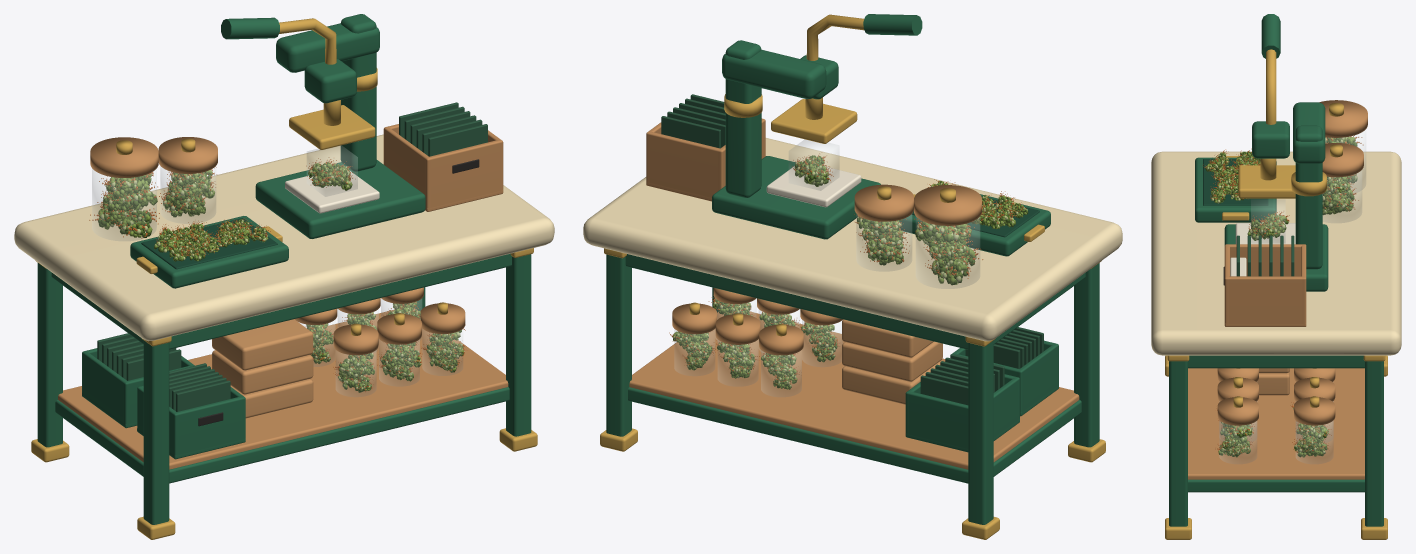
Rendered from pack_bench_tier2.glb.
3 renders of one model, left to right at view 1: azimuth 30°, elevation 25°; view 2: azimuth 150°, elevation 25°; view 3: azimuth 270°, elevation 25°, orthographic. The views are drawn at different scales.
Visible parts, largest first — view 1: Top, Shelf, ShelfRail, PressBase, Leg-1-1, ApronF, Leg1-1, Leg-11, JarA, TopCrateWall0, LowBox2, Tray (+29 smaller); view 2: Top, Shelf, ShelfRail, PressBase, Leg-11, ApronB, Leg11, Leg-1-1, PressColumn, JarA, TopCrateWall1, PressArm (+26 smaller); view 3: Top, Shelf, TopCrateWall3, Leg1-1, Leg11, PressColumn, ShelfRail, ApronE, JarB, PressPlate, Tray, TopCrateWall2 (+28 smaller).
Part boxes in pixels (box(x1,y1,x2,y2)): Top: box(14, 134, 554, 341); Shelf: box(58, 308, 508, 469); ShelfRail: box(55, 387, 509, 483); PressBase: box(255, 160, 425, 238); Leg-1-1: box(143, 340, 169, 524); ApronF: box(169, 253, 511, 349); Leg1-1: box(506, 254, 531, 436); Leg-11: box(37, 263, 62, 447); JarA: box(92, 169, 156, 240); TopCrateWall0: box(425, 139, 503, 209); LowBox2: box(212, 319, 313, 370); Tray: box(130, 216, 288, 288); Top: box(583, 138, 1122, 341); Shelf: box(629, 311, 1079, 469); ShelfRail: box(628, 387, 1081, 483); PressBase: box(712, 156, 880, 239); Leg-11: box(968, 340, 993, 524); ApronB: box(625, 254, 968, 349); Leg11: box(606, 254, 631, 436); Leg-1-1: box(1074, 263, 1099, 447); PressColumn: box(725, 40, 761, 197); JarA: box(916, 217, 979, 288); TopCrateWall1: box(646, 131, 724, 197); PressArm: box(722, 50, 826, 98); Top: box(1151, 151, 1401, 355); Shelf: box(1188, 368, 1364, 479); TopCrateWall3: box(1224, 276, 1306, 323); Leg1-1: box(1169, 361, 1187, 526); Leg11: box(1365, 361, 1383, 526); PressColumn: box(1295, 125, 1322, 269); ShelfRail: box(1188, 479, 1364, 492); ApronE: box(1188, 355, 1364, 368); JarB: box(1323, 170, 1361, 222); PressPlate: box(1238, 165, 1295, 198); Tray: box(1195, 157, 1276, 222); TopCrateWall2: box(1224, 244, 1306, 276).
Bounding box in the file's own units: 1.62 × 1.67 × 0.9201.
